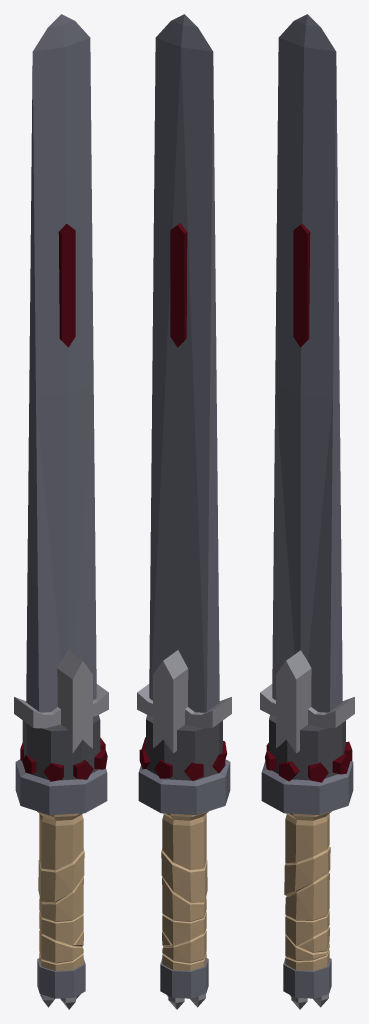
Rendered from _sword_17.fbx.
The picture shows the model from 3 angles, left to right: view 1: azimuth 30°, elevation 25°; view 2: azimuth 150°, elevation 25°; view 3: azimuth 330°, elevation 25°; orthographic projection.
Visible parts, largest first — view 1: sword_17; view 2: sword_17; view 3: sword_17.
Part boxes in pixels (x1,y1,x2,y2): sword_17: (14,14,108,1009); sword_17: (137,14,231,1009); sword_17: (260,14,354,1009).
Size of the model in its own units: 12.46 by 144 by 12.46.
